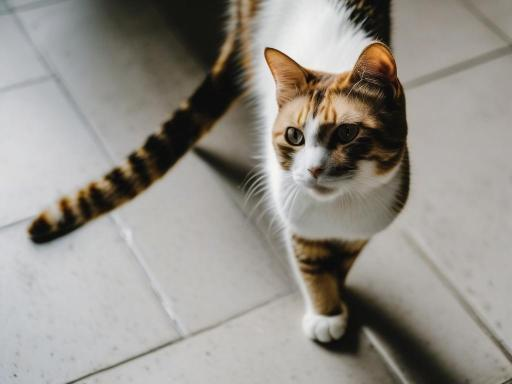cat_standing: (28, 0, 410, 342)
